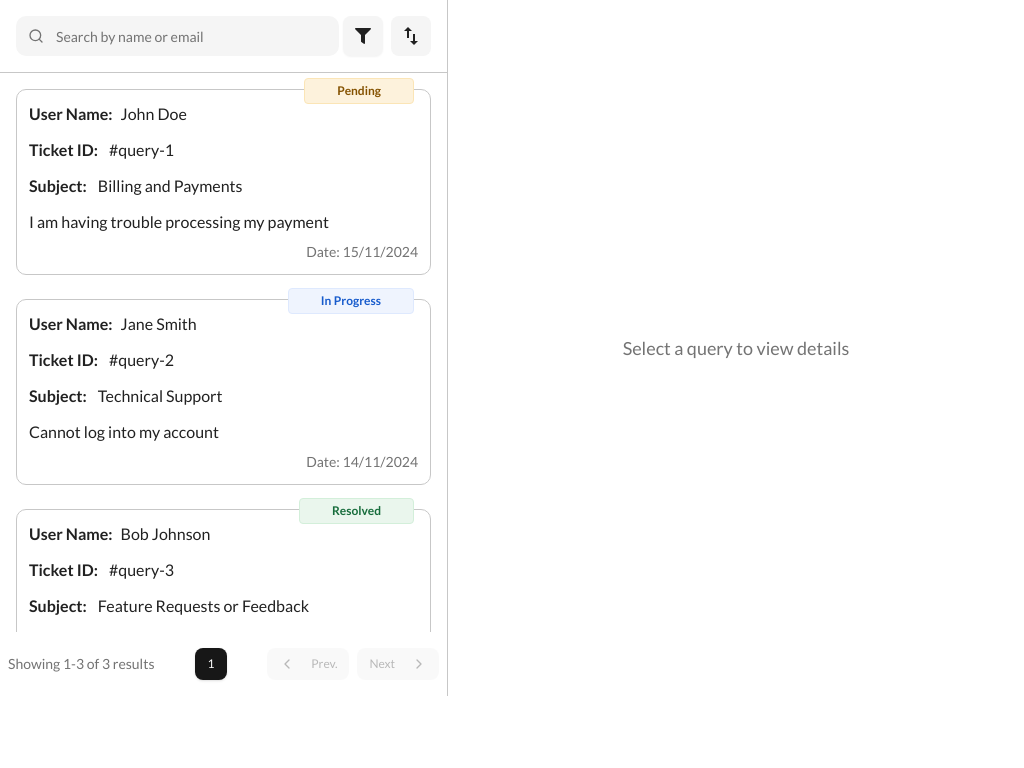
it: UserQueries - Integration Tests › Desktop View › should change selected query when different query is clicked
The image size is (1024, 768).
# Select first query
Click the element with test id "query-1": click(224, 182) [16,89,431,275]
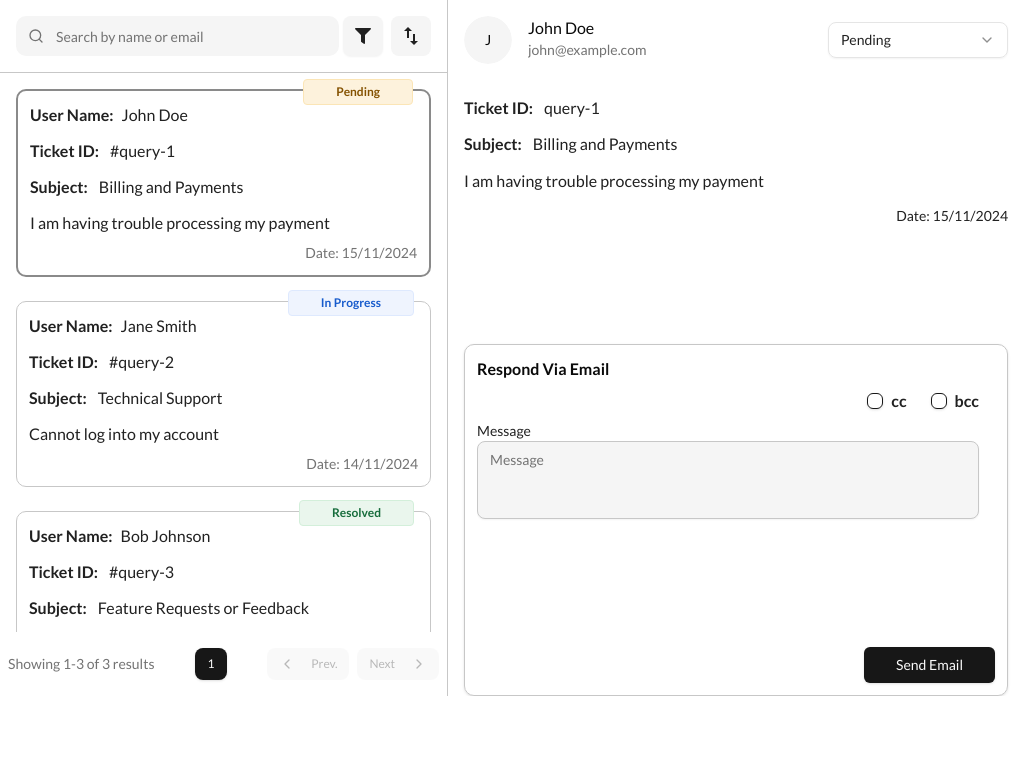
Expected: the text with test id "message-content" reads "I am having trouble processing my payment", [464,171,764,190]
# Select second query
Click the element with test id "query-2": click(224, 394) [16,301,431,487]
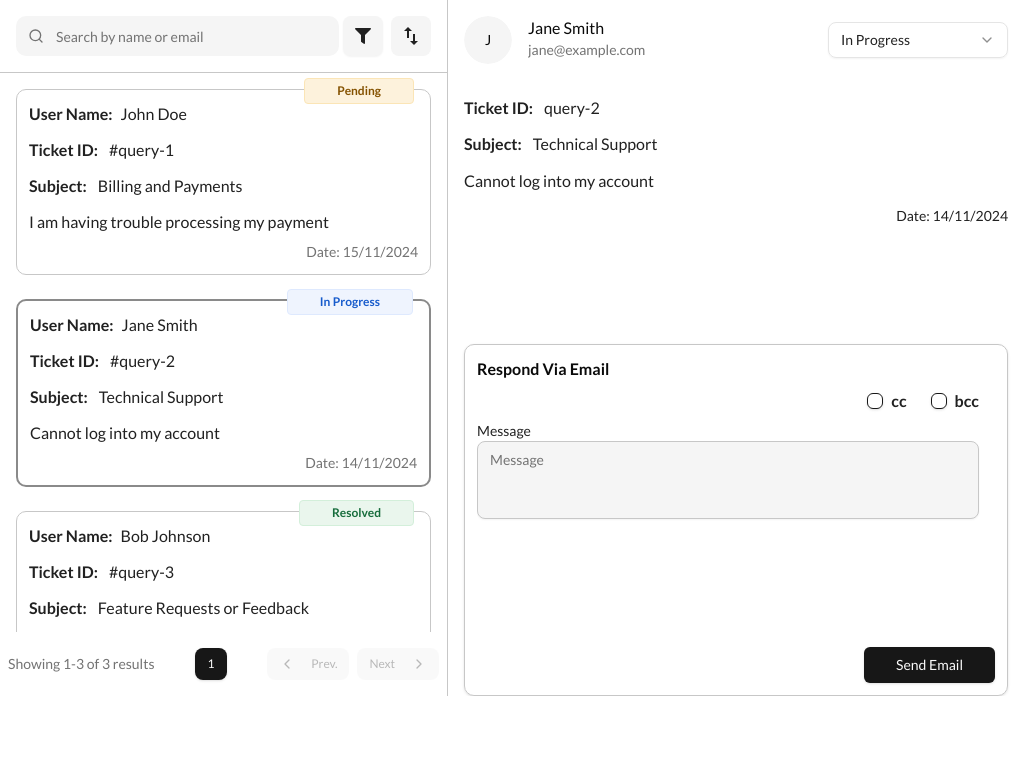
Expected: the text with test id "message-content" reads "Cannot log into my account", [464,171,654,190]
